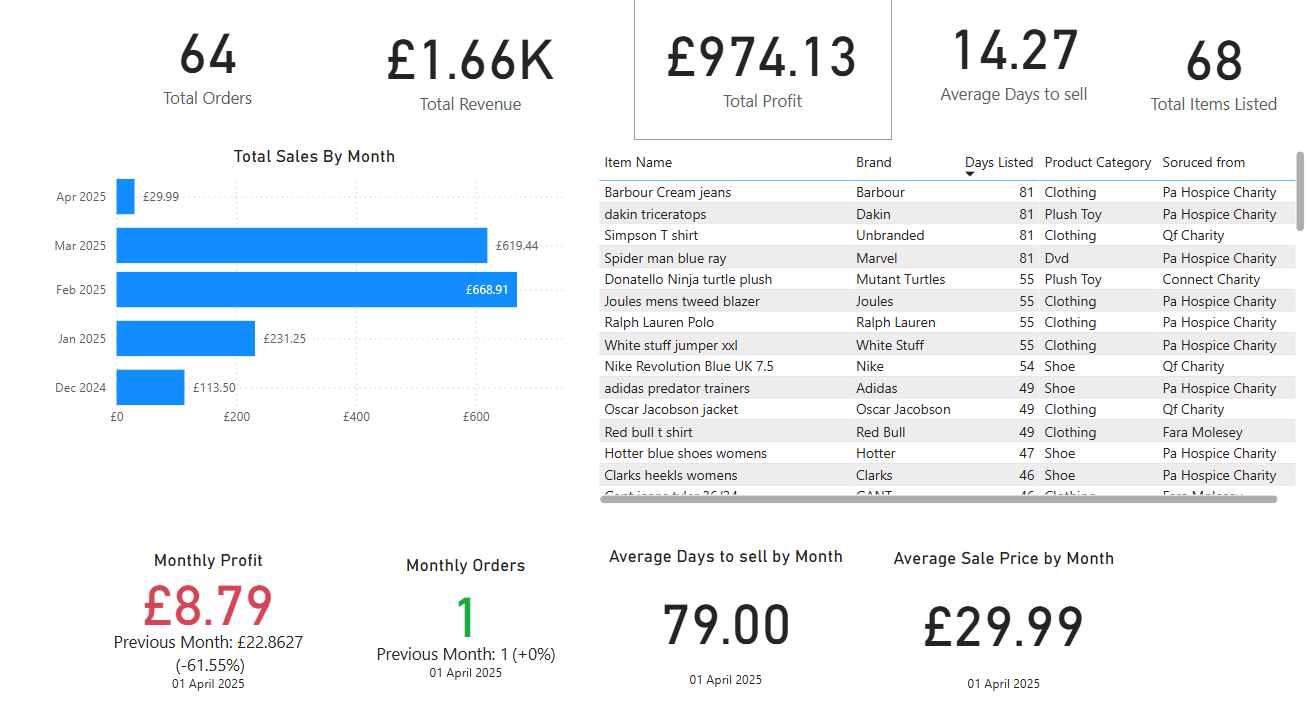

The dashboard page shown, as its layout file describes it:
{"tool":"powerbi","page":{"name":"Overview","canvas":[1280,720],"ordinal":0},"visuals":[{"type":"barChart","title":"Total Sales By Month","fields":{"Category":["Calendar.Start of Month"],"Y":["Sales.Sale Price"]},"box":[58.7,158.4,519.7,279.4],"z":0},{"type":"card","fields":{"Values":["Measures Table.Total Orders"]},"box":[121.2,7.2,190.4,131.3],"z":1000},{"type":"card","fields":{"Values":["Measures Table.Total Revenue"]},"box":[330.5,0,278,158],"z":2000},{"type":"card","fields":{"Values":["Measures Table.Total Profit"]},"box":[627.4,0,248.2,151.5],"z":3000},{"type":"kpi","title":"Monthly Profit","fields":{"TrendLine":["Calendar.Start of Month"],"Indicator":["Measures Table.Total Profit"],"Goal":["Measures Table.Previous Month Profit"]},"box":[95.3,547.7,242.5,146],"z":4000},{"type":"kpi","title":"Monthly Orders","fields":{"Indicator":["Measures Table.Total Orders"],"TrendLine":["Calendar.Start of Month"],"Goal":["Measures Table.Previous Month Orders"]},"box":[351.1,552.5,228,137.5],"z":5000},{"type":"card","fields":{"Values":["Measures Table.Average Days to sell"]},"box":[894.4,0,200.5,138.5],"z":6000},{"type":"kpi","title":"Average Days to sell by Month","fields":{"Indicator":["Measures Table.Average Days to sell"],"TrendLine":["Calendar.Start of Month"]},"box":[594.8,544.1,242.5,146],"z":7000},{"type":"kpi","title":"Average Sale Price by Month","fields":{"Indicator":["Measures Table.Average Sale Price"],"TrendLine":["Calendar.Start of Month"]},"box":[867.1,545.4,233.7,150],"z":8000},{"type":"tableEx","fields":{"Values":["Inventory.Item Name","Inventory.Brand","Inventory.Days Listed","Product Categories.Product Category","Sourcing Locations.Soruced from"]},"box":[587.3,158.4,692.3,350.6],"z":9000},{"type":"card","fields":{"Values":["Measures Table.Total Items Listed"]},"box":[1113.8,7.2,147.2,144.3],"z":10000}]}

Visuals, with their boxes in screenshot pixels (x1, y1, x2, y2), scaled from the page's 1280x720 canvas onto the 1306x728 screenshot:
"Total Sales By Month" barChart: detection(60, 160, 590, 443)
card - Measures Table.Total Orders: detection(124, 7, 318, 140)
card - Measures Table.Total Revenue: detection(337, 0, 621, 160)
card - Measures Table.Total Profit: detection(640, 0, 893, 153)
"Monthly Profit" kpi: detection(97, 554, 345, 701)
"Monthly Orders" kpi: detection(358, 559, 591, 698)
card - Measures Table.Average Days to sell: detection(913, 0, 1117, 140)
"Average Days to sell by Month" kpi: detection(607, 550, 854, 698)
"Average Sale Price by Month" kpi: detection(885, 551, 1123, 703)
tableEx - Inventory.Item Name x Inventory.Brand: detection(599, 160, 1305, 515)
card - Measures Table.Total Items Listed: detection(1136, 7, 1287, 153)
